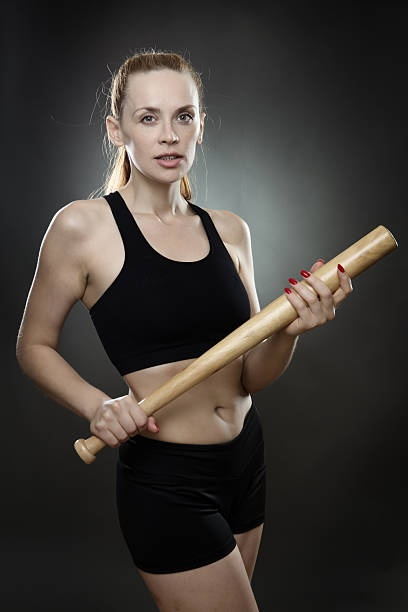bita: (67, 228, 393, 464)
